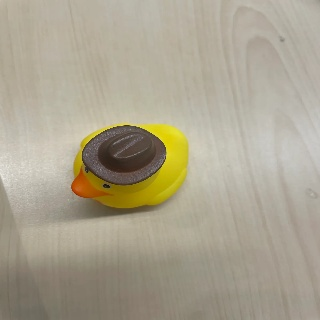duck_specialty: (69, 121, 188, 210)
